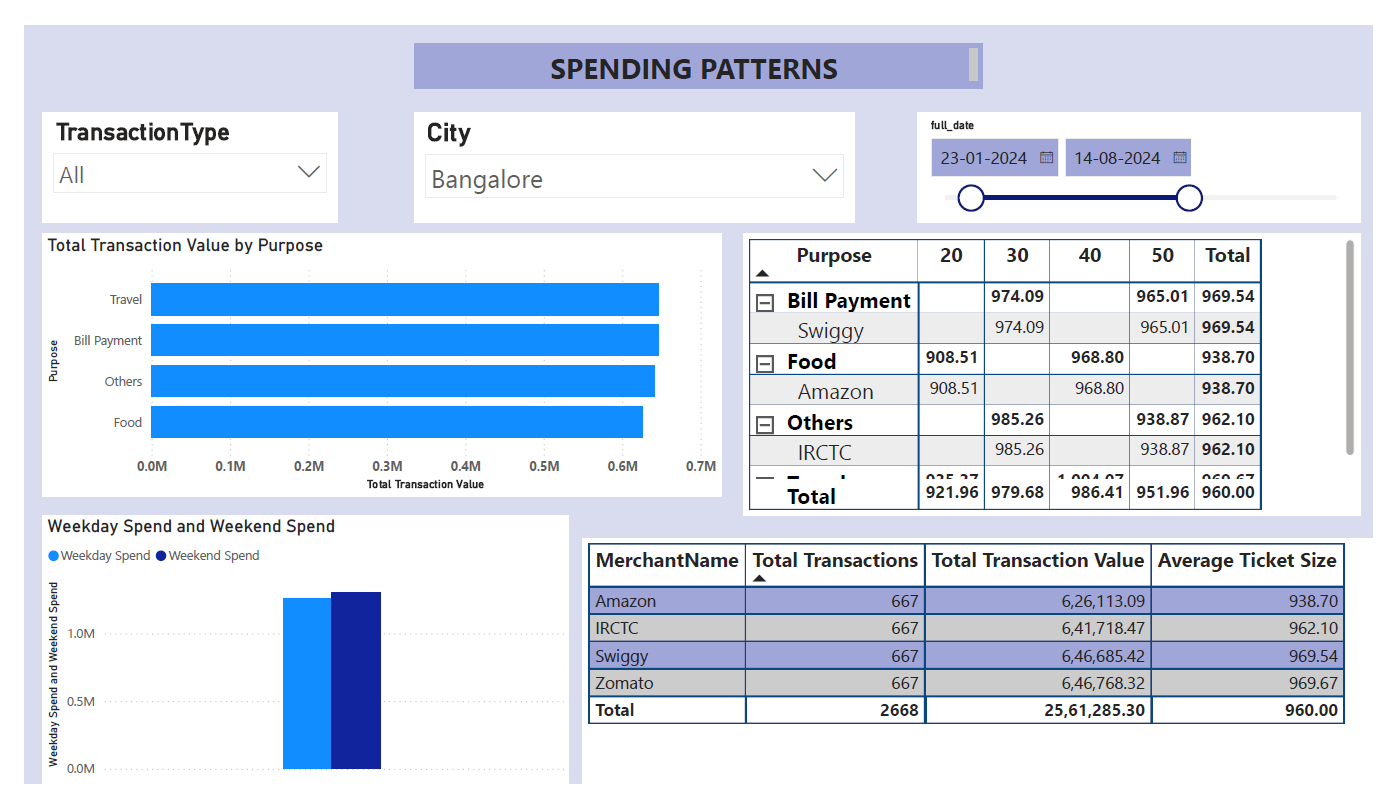

Layout of this report page (visuals, bound fields, positions):
{"tool":"powerbi","page":{"name":"page2","canvas":[1280,720],"ordinal":1},"visuals":[{"type":"textbox","box":[370,16.7,540,43.3],"z":0},{"type":"clusteredBarChart","fields":{"Category":["fact_transactions.Purpose"],"Y":["fact_transactions.Total Transaction Value"]},"box":[16.7,198.3,645,248.3],"z":1000},{"type":"clusteredColumnChart","fields":{"Y":["fact_transactions.Weekday Spend","fact_transactions.Weekend Spend"]},"box":[16.7,465,500,255],"z":2000},{"type":"tableEx","fields":{"Values":["fact_transactions.MerchantName","fact_transactions.Total Transactions","fact_transactions.Total Transaction Value","fact_transactions.Average Ticket Size"]},"box":[530,486.7,750,233.3],"z":3000},{"type":"pivotTable","fields":{"Rows":["fact_transactions.Purpose","fact_transactions.MerchantName"],"Columns":["fact_transactions.Age Groups"],"Values":["fact_transactions.Average Ticket Size"]},"box":[683.3,198.3,585,266.7],"z":4000},{"type":"slicer","fields":{"Values":["fact_transactions.TransactionType"]},"box":[16.7,83.3,280,103.3],"z":5000},{"type":"slicer","fields":{"Values":["fact_transactions.City"]},"box":[370,83.3,418.3,103.3],"z":6000},{"type":"slicer","fields":{"Values":["dim_date.full_date"]},"box":[848.3,83.3,420,103.3],"z":7000}]}

Visuals, with their boxes in screenshot pixels (x1, y1, x2, y2), scaled from the page's 1280x720 canvas onto the 1396x808 screenshot:
textbox: 404/19/992/67
clusteredBarChart - fact_transactions.Purpose x fact_transactions.Total Transaction Value: 18/223/722/501
clusteredColumnChart - fact_transactions.Weekday Spend x fact_transactions.Weekend Spend: 18/522/564/807
tableEx - fact_transactions.MerchantName x fact_transactions.Total Transactions: 578/546/1395/807
pivotTable - fact_transactions.Purpose x fact_transactions.MerchantName: 745/223/1383/522
slicer - fact_transactions.TransactionType: 18/93/324/209
slicer - fact_transactions.City: 404/93/860/209
slicer - dim_date.full_date: 925/93/1383/209
